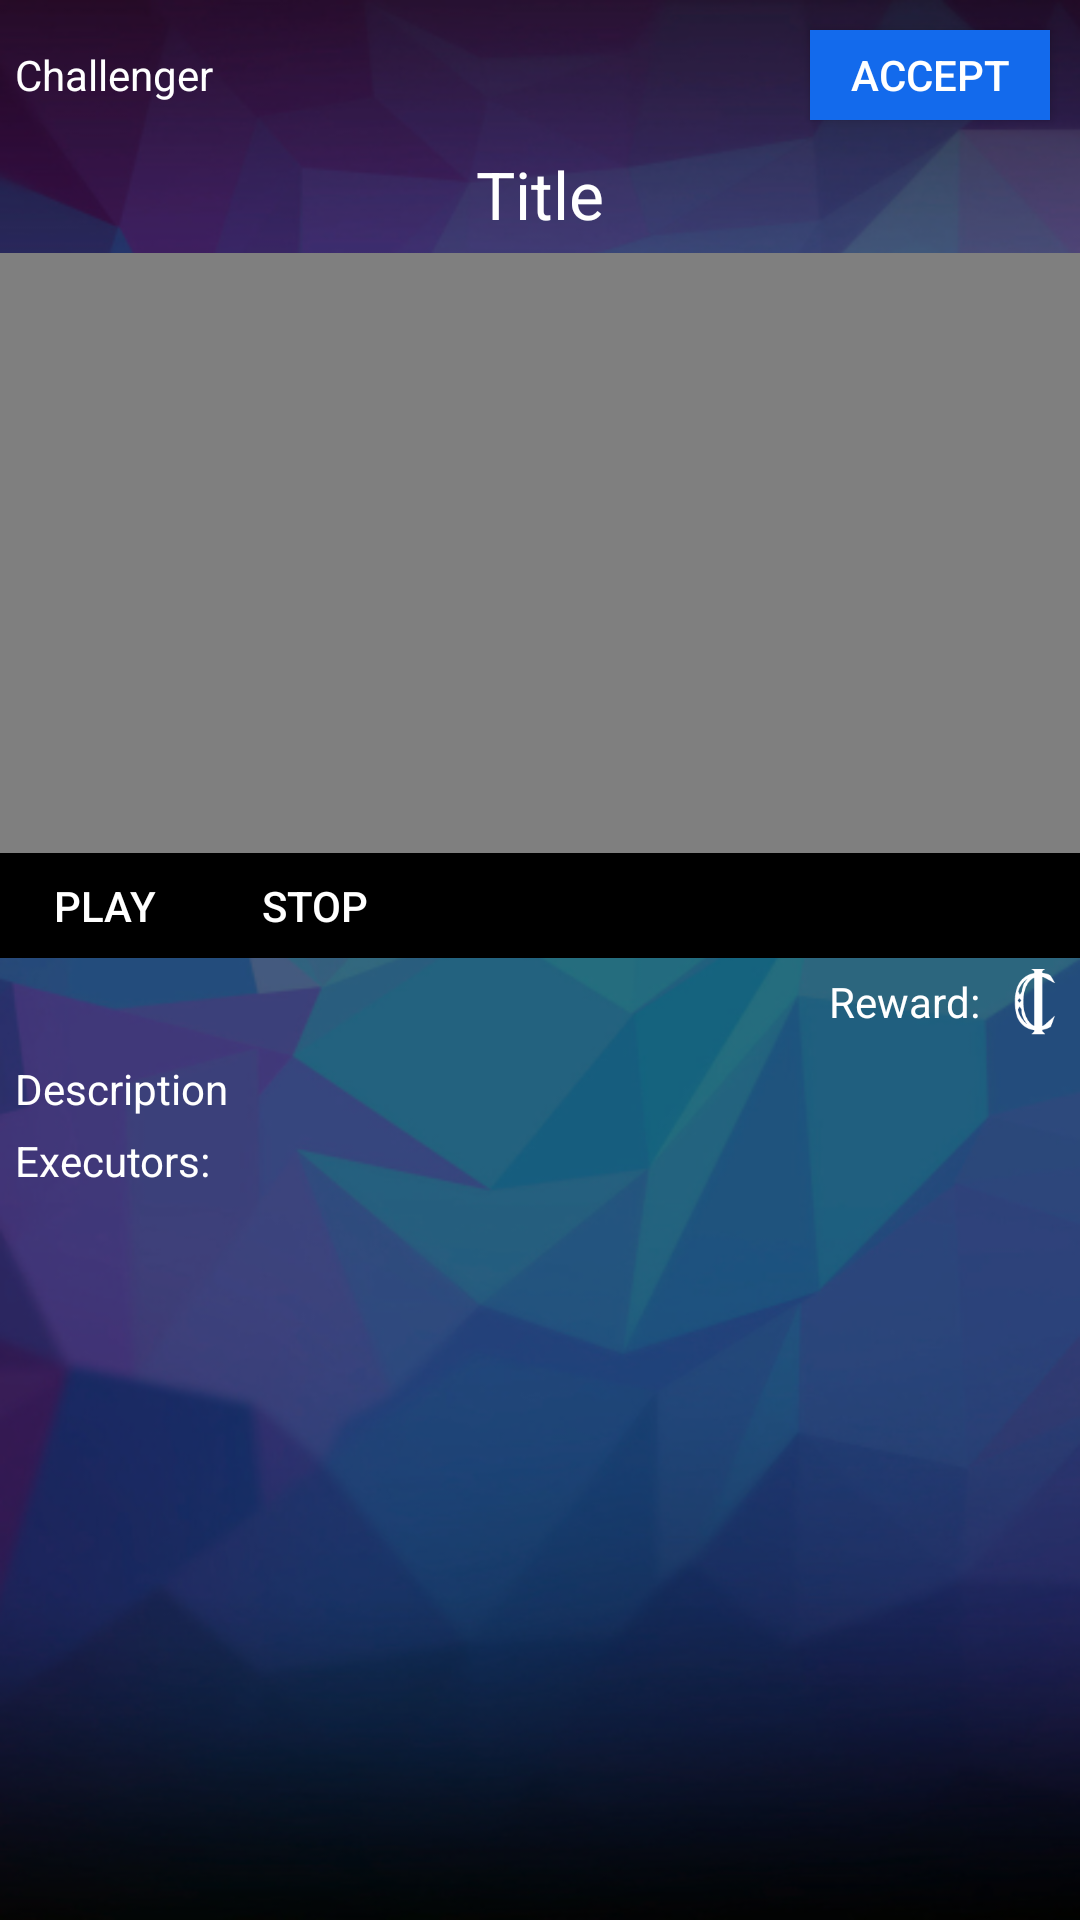

Point at icon controls on the screen. Image size 1080px×1920px, points as (x,y).
pointswhite: (1035,1001)
